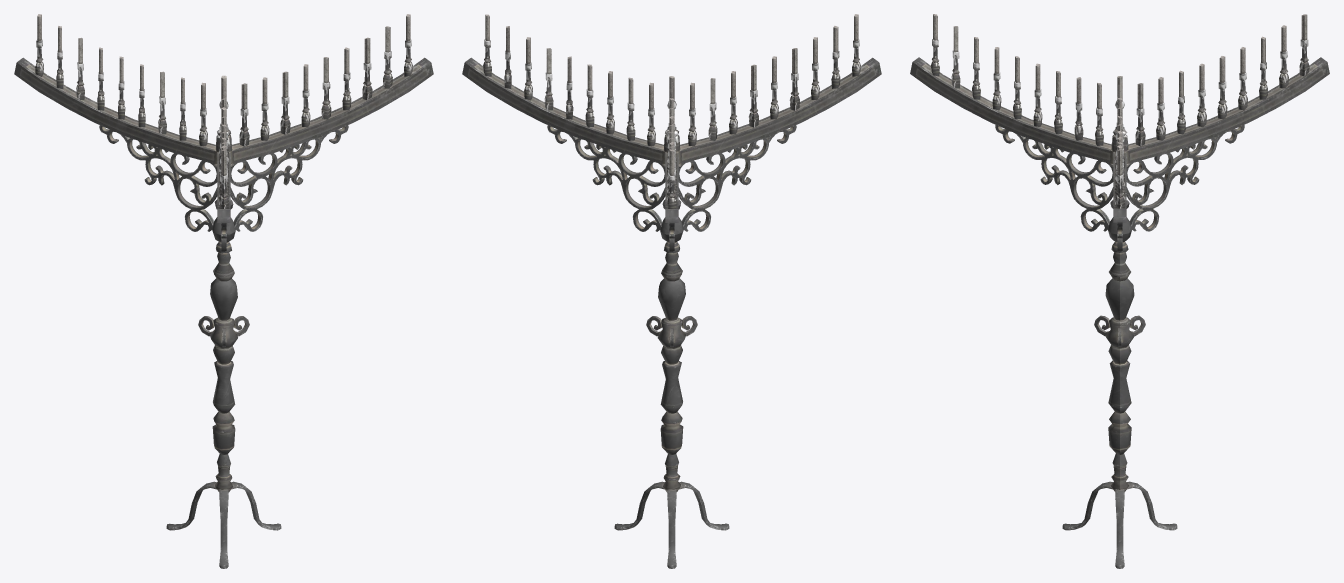
3 renders of one model, left to right at view 1: azimuth 30°, elevation 25°; view 2: azimuth 150°, elevation 25°; view 3: azimuth 270°, elevation 25°, orthographic.
Visible parts, largest first — view 1: SM_CandleStand02_LOD0; view 2: SM_CandleStand02_LOD0; view 3: SM_CandleStand02_LOD0.
Boxes of the visible parts, box(x1,y1,x2,y2) form: SM_CandleStand02_LOD0: box(14, 14, 433, 568); SM_CandleStand02_LOD0: box(462, 14, 881, 568); SM_CandleStand02_LOD0: box(910, 14, 1329, 568).
Size of the model in its own units: 1.54 by 2.25 by 1.77.
1 material, 1 textured.
